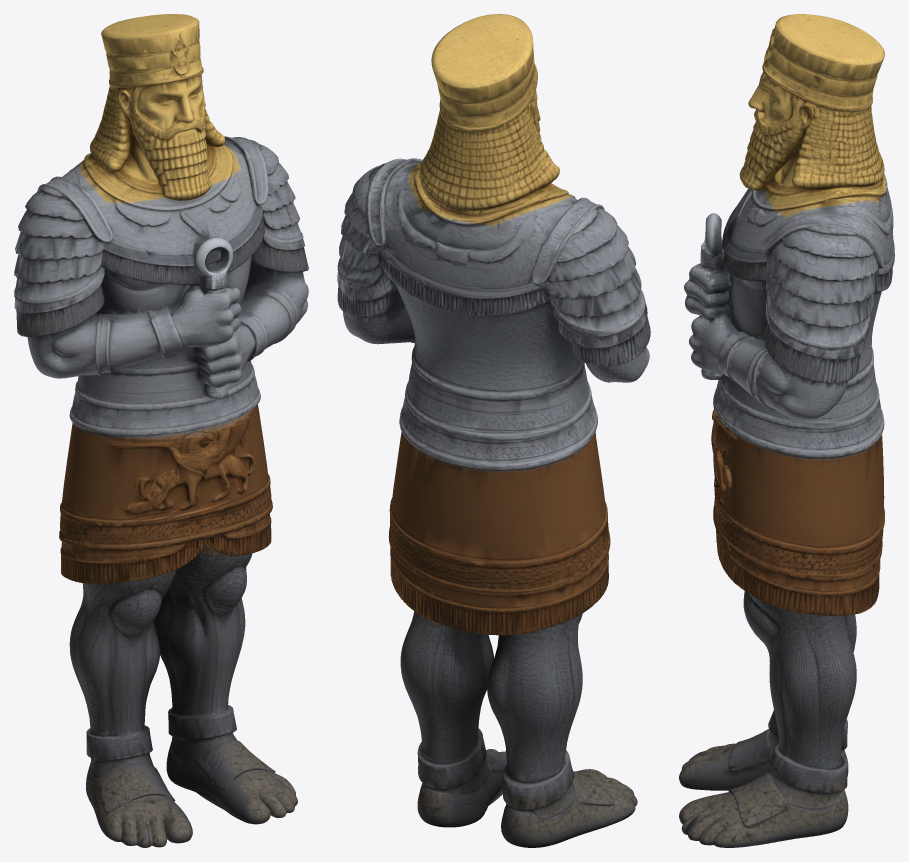
The model's file is statue_v11d_hd.glb.
3 renders of one model, left to right at view 1: azimuth 30°, elevation 25°; view 2: azimuth 150°, elevation 25°; view 3: azimuth 270°, elevation 25°, orthographic. The views are drawn at different scales.
Visible parts, largest first — view 1: chest_silver, belly_bronze, legs_iron, head_gold, feet_clay; view 2: chest_silver, belly_bronze, head_gold, legs_iron, feet_clay; view 3: chest_silver, belly_bronze, head_gold, feet_clay, legs_iron.
Part boxes in pixels (x1,y1,x2,y2): chest_silver: (14, 136, 308, 438); belly_bronze: (59, 404, 272, 583); legs_iron: (69, 553, 252, 745); head_gold: (79, 14, 240, 203); feet_clay: (86, 708, 297, 847); chest_silver: (337, 158, 650, 471); belly_bronze: (388, 431, 610, 635); head_gold: (408, 14, 573, 226); legs_iron: (400, 611, 582, 777); feet_clay: (417, 741, 637, 847); chest_silver: (684, 179, 894, 459); belly_bronze: (711, 409, 884, 615); head_gold: (739, 14, 886, 218); feet_clay: (679, 714, 848, 847); legs_iron: (743, 591, 856, 768).
Bounding box in the file's own units: 0.3874 × 1 × 0.2508.
Materials: 1 (1 with a texture image).
